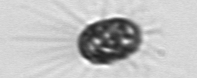plankton: (73, 11, 150, 69)
